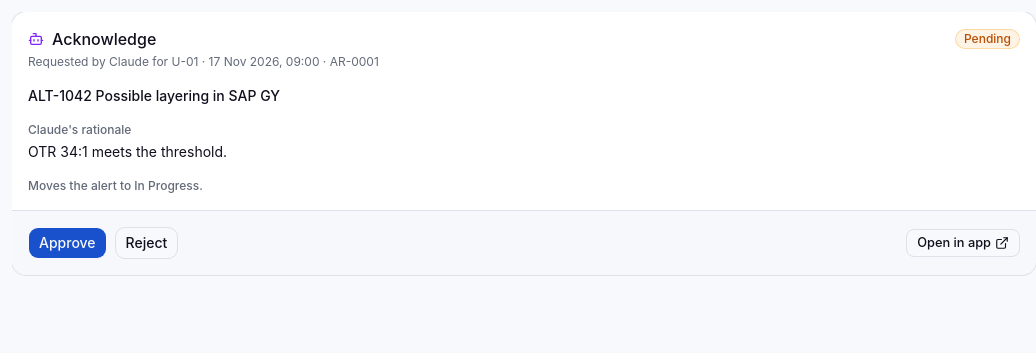
Test: ActionRequestView › approve after an app decision shows the conflict and the real status
Click the button "Approve".
click(67, 243)  # box [28,227,107,259]
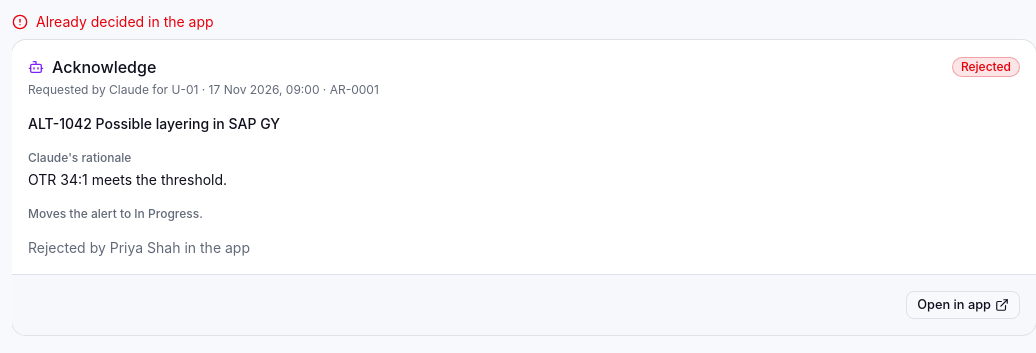
Expected: the message reads "Already decided in the app", [36,13,214,30]
Expected: the text with test id "decision" reads "Rejected by Priya Shah in the app", [28,239,250,256]
